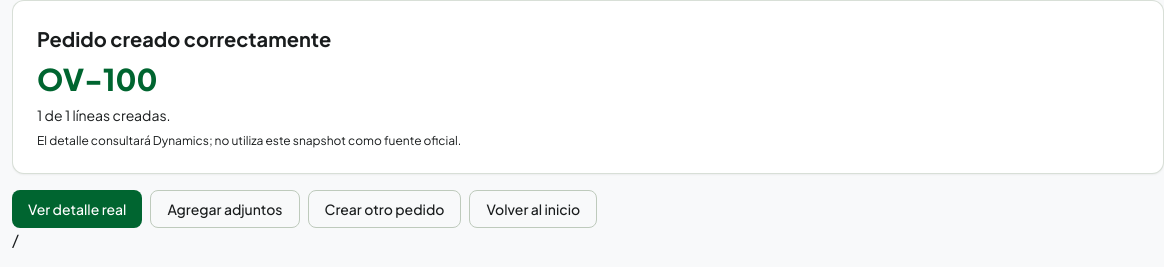
Test: OrderDraftReviewPage recovery, editing and navigation coverage › routes completed orders through Agregar adjuntos
Step 1. Click the button "Agregar adjuntos" → (225, 209), box [150,190,300,228]
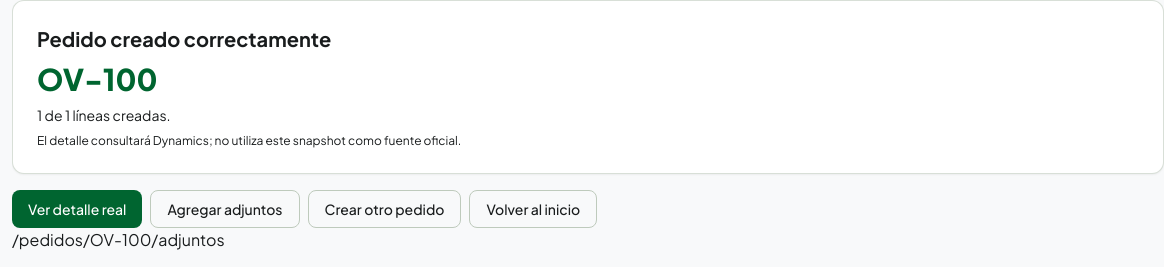
Now the text with test id "location" reads "/pedidos/OV-100/adjuntos", box [12,229,225,250]
